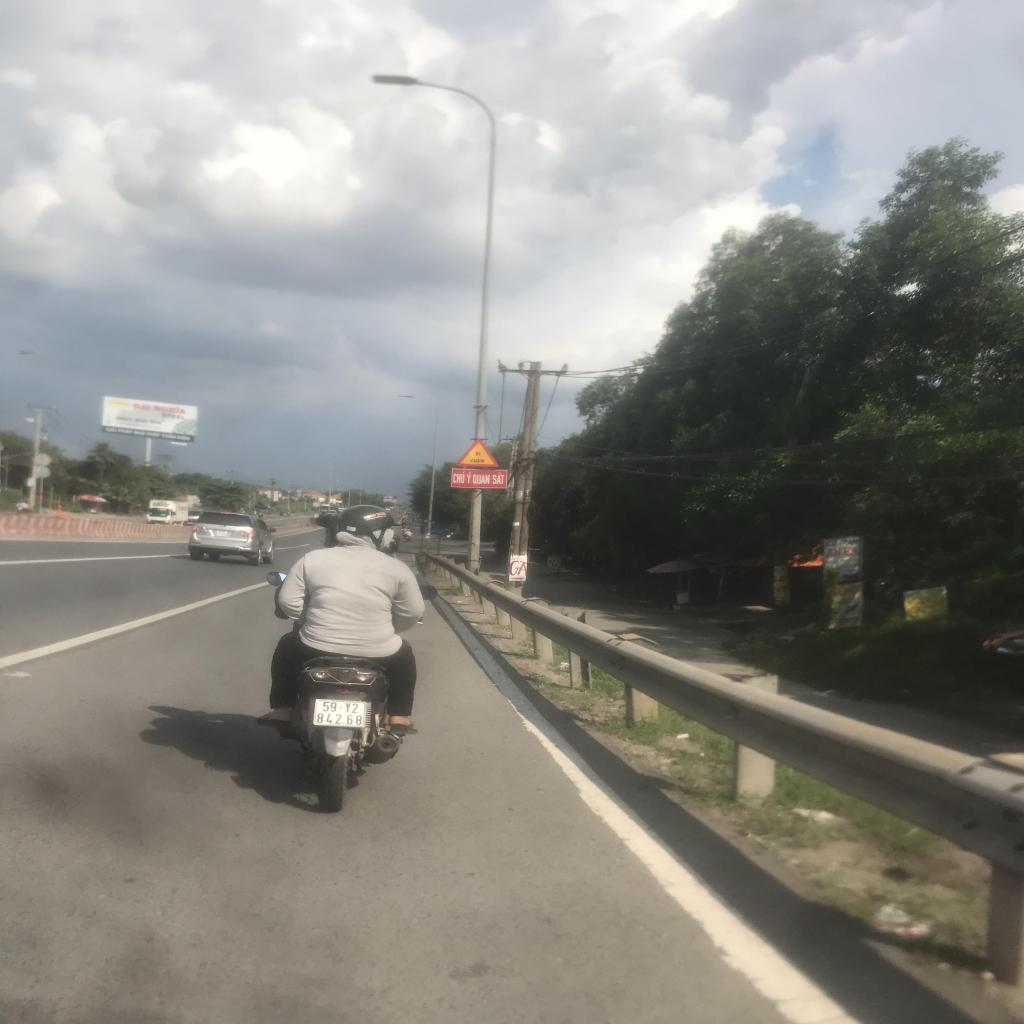di_cham: (456, 438, 500, 466)
